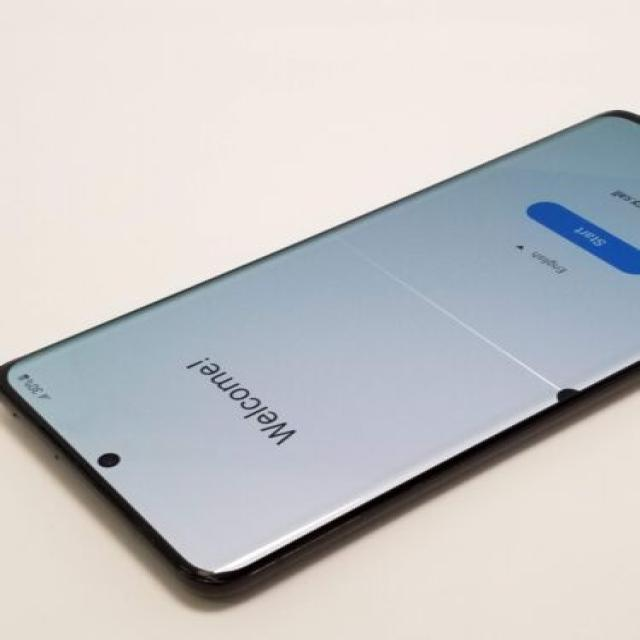dead pixel: (542, 371, 590, 414)
